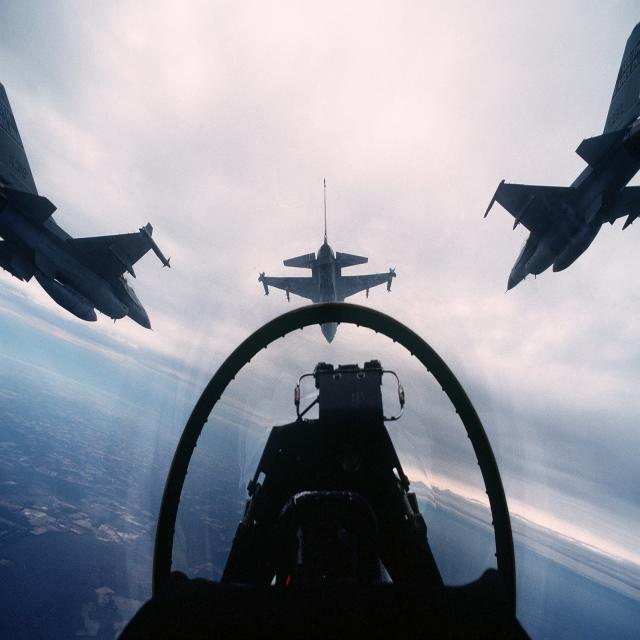MIL_Plane: (483, 20, 640, 294), (0, 82, 172, 332), (258, 178, 396, 346)
